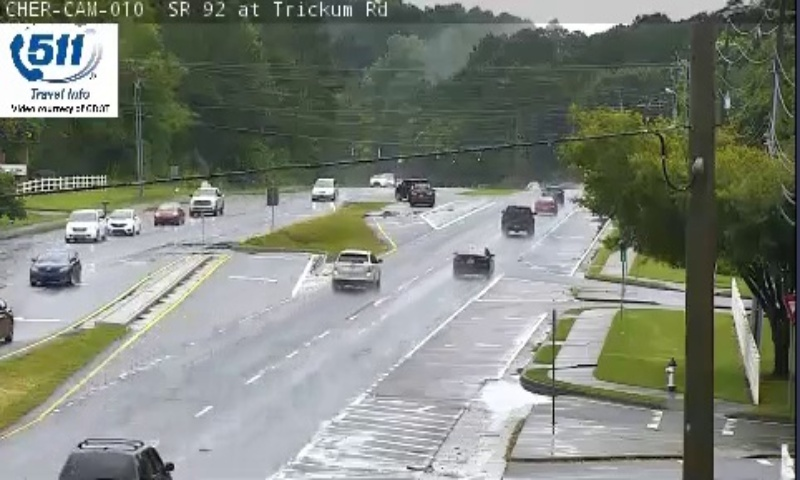car: (331, 250, 381, 286), (453, 245, 492, 272), (501, 204, 534, 235)
